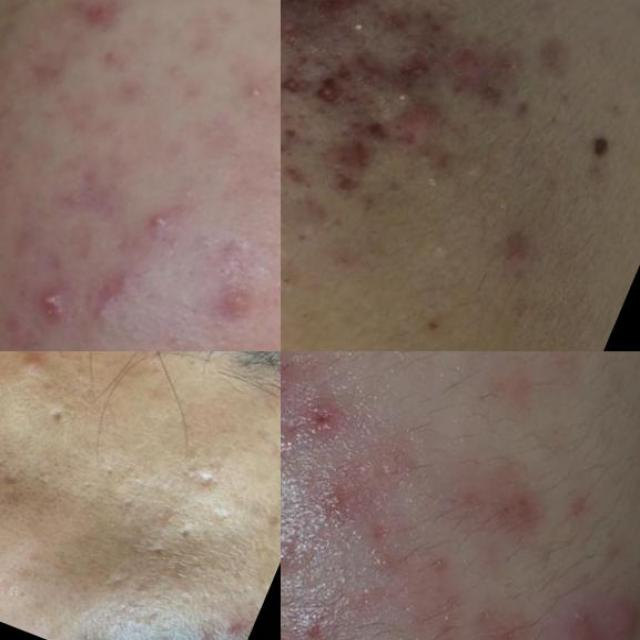acne_scars: (30, 377, 88, 438), (181, 446, 229, 499), (0, 435, 42, 495), (160, 512, 206, 548)
comedone: (436, 30, 496, 85), (230, 57, 280, 118), (409, 224, 458, 275), (454, 142, 494, 188), (281, 244, 305, 293), (346, 625, 414, 640)
papule: (537, 558, 640, 640), (202, 253, 273, 328), (97, 242, 159, 300), (74, 0, 141, 36), (6, 351, 56, 383)
pustule: (12, 248, 82, 330), (128, 184, 197, 244)
sebo-crystan-conglo: (326, 32, 468, 150), (281, 0, 440, 103)
